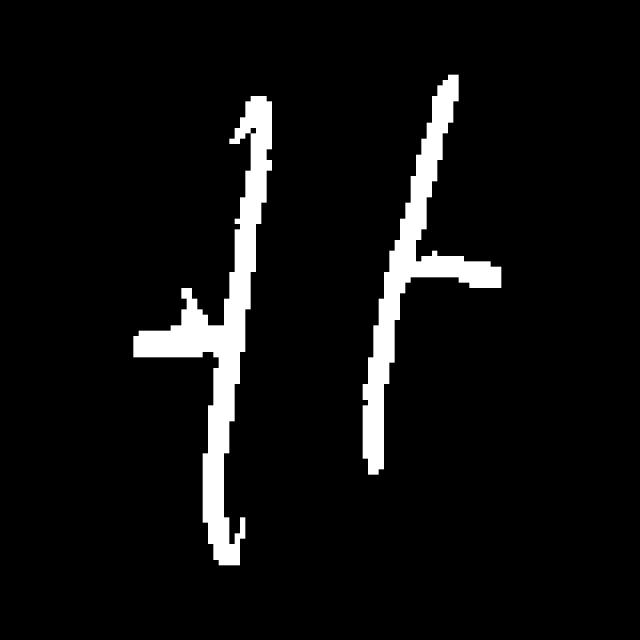capacitor: (190, 69, 470, 574)
